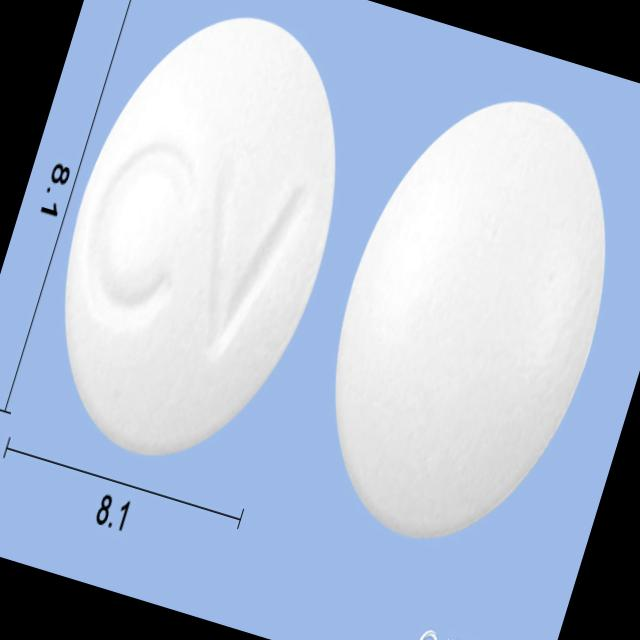Jeil Cravit: (14, 0, 387, 489)
